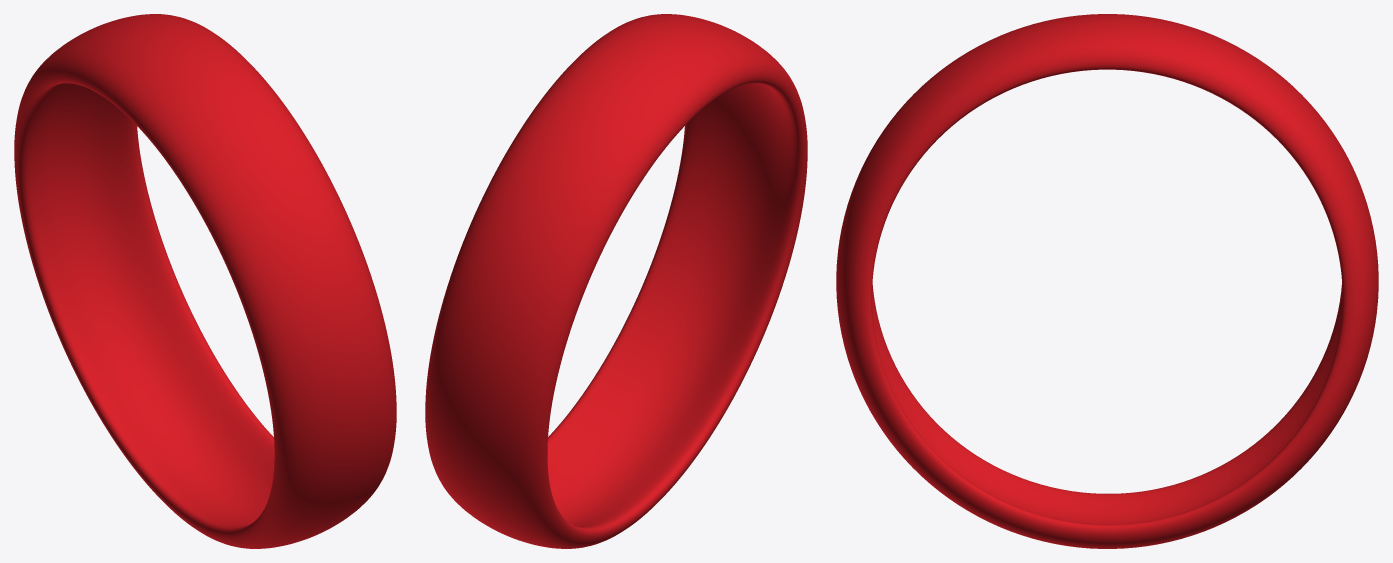
File: ring.fbx
3 renders of one model, left to right at view 1: azimuth 30°, elevation 25°; view 2: azimuth 150°, elevation 25°; view 3: azimuth 270°, elevation 25°, orthographic. The views are drawn at different scales.
Parts seen in each view (by area): view 1: root; view 2: root; view 3: root.
Part boxes in pixels (x1,y1,x2,y2): root: (14, 14, 396, 548); root: (425, 14, 807, 548); root: (836, 14, 1378, 548).
Bounding box in the file's own units: 0.2111 × 0.5082 × 0.5119.
Materials: 1 (1 with a texture image).
